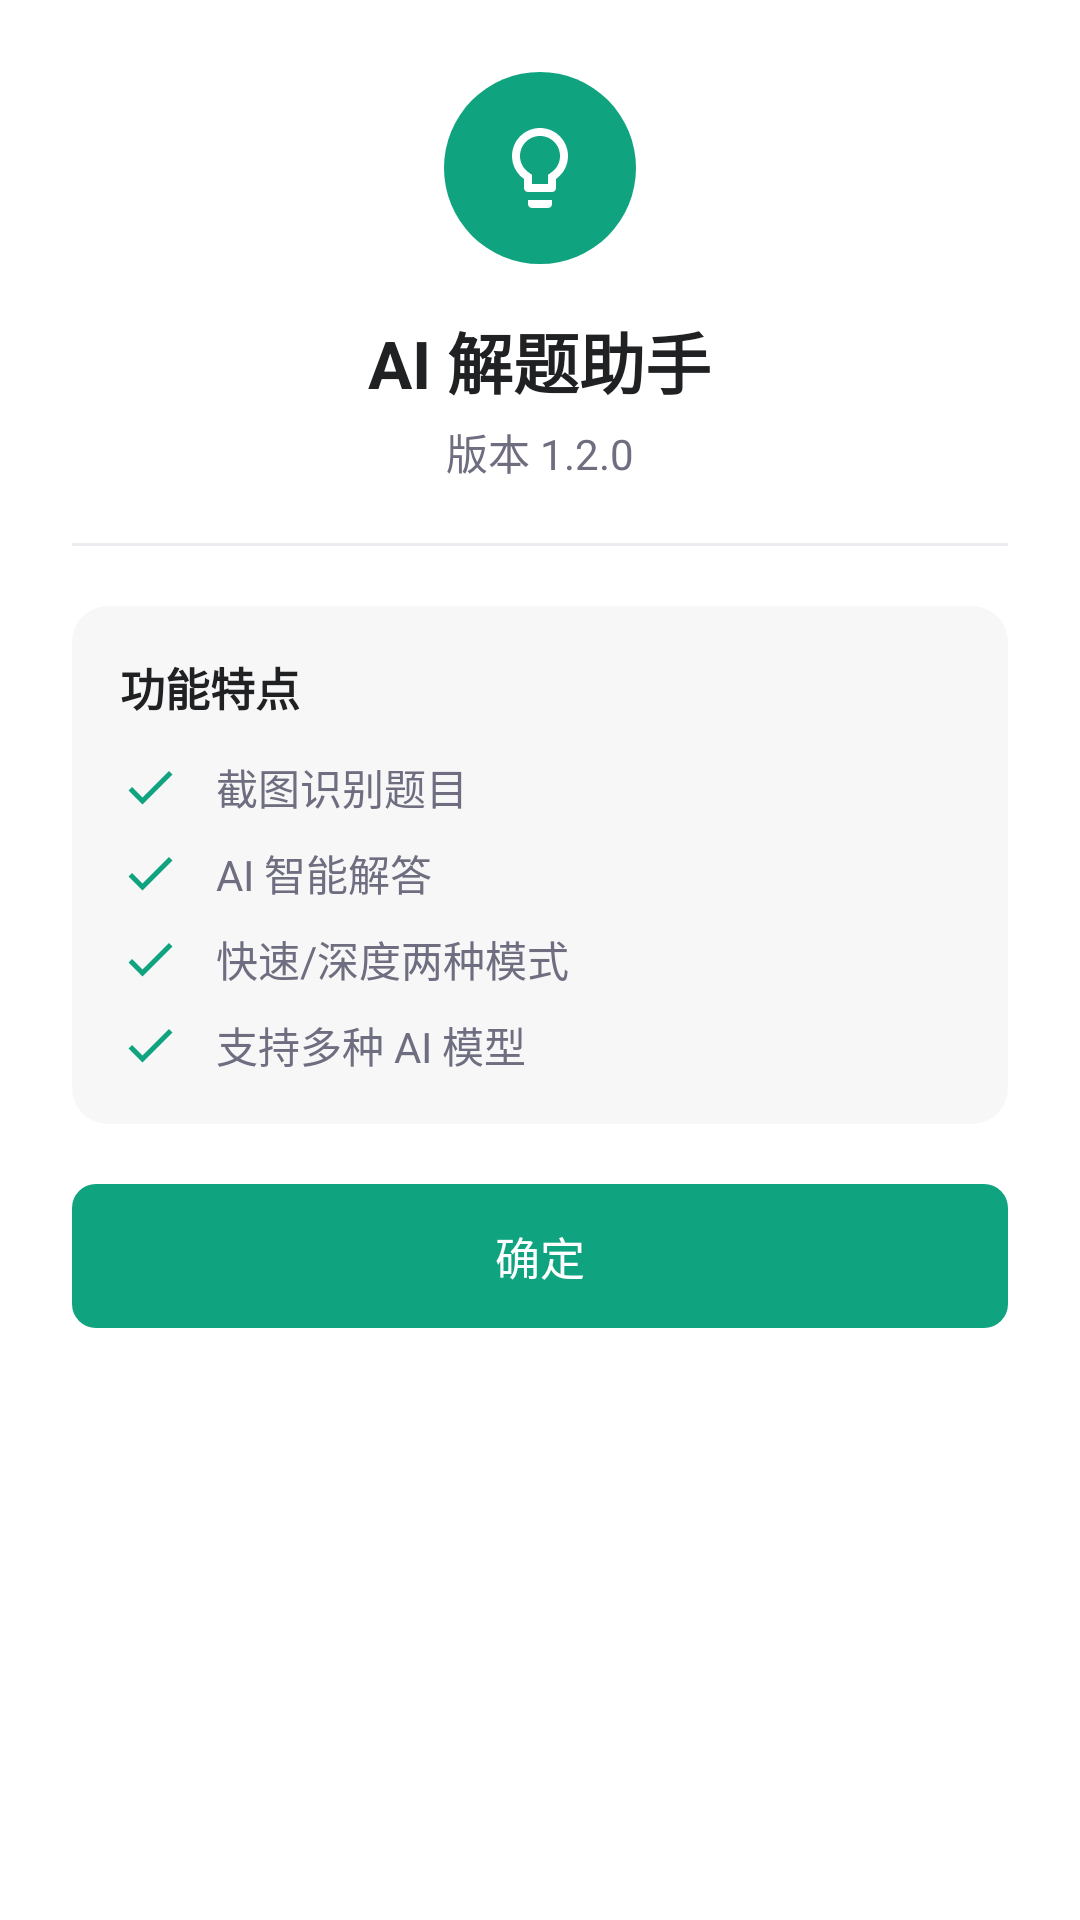

Locate icon controls on the screen. Image size 1080*1920, boxes as (x1, y1, x2, y2).
check: (128, 771, 173, 805), (128, 857, 173, 891), (128, 943, 173, 977), (128, 1029, 173, 1063)
